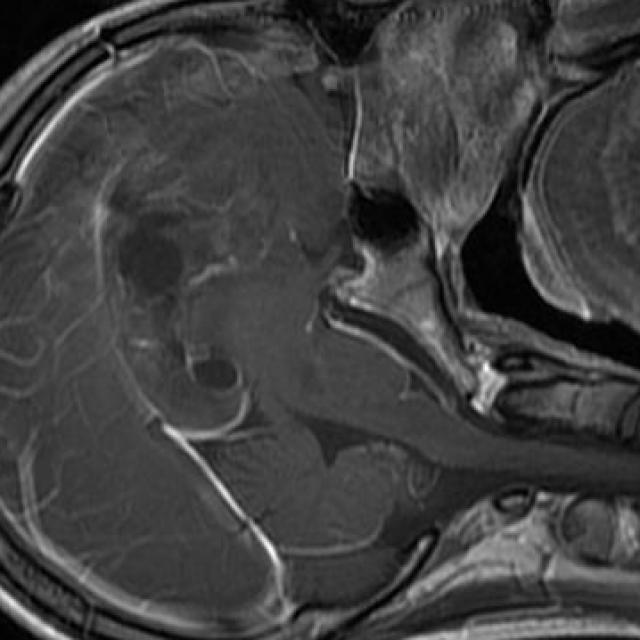glioma: (107, 182, 235, 390)
